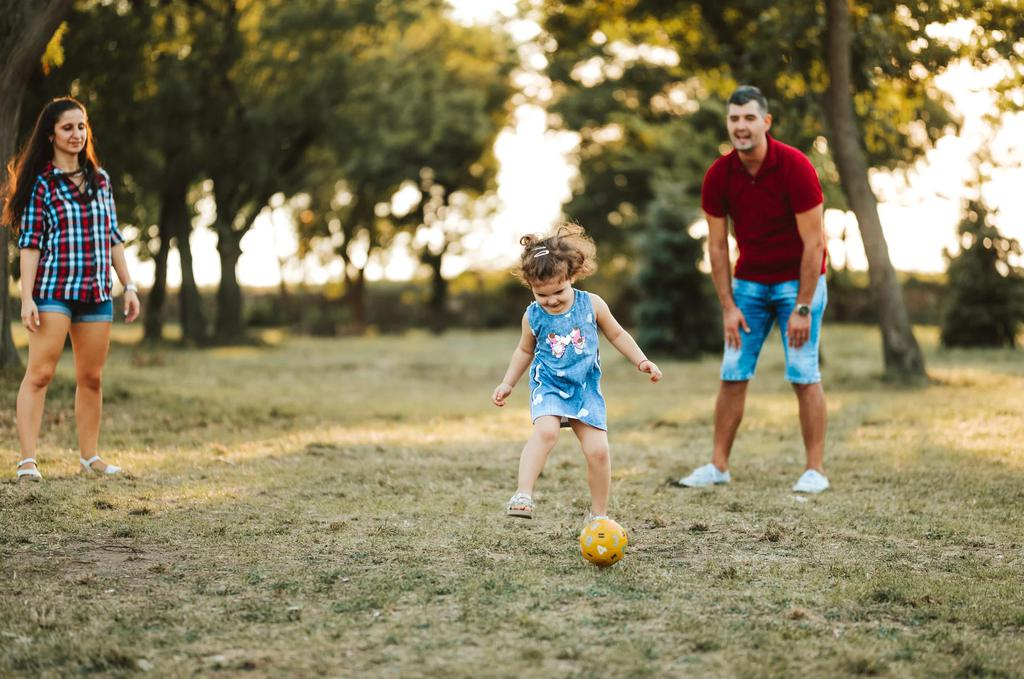child: (472, 224, 676, 525)
